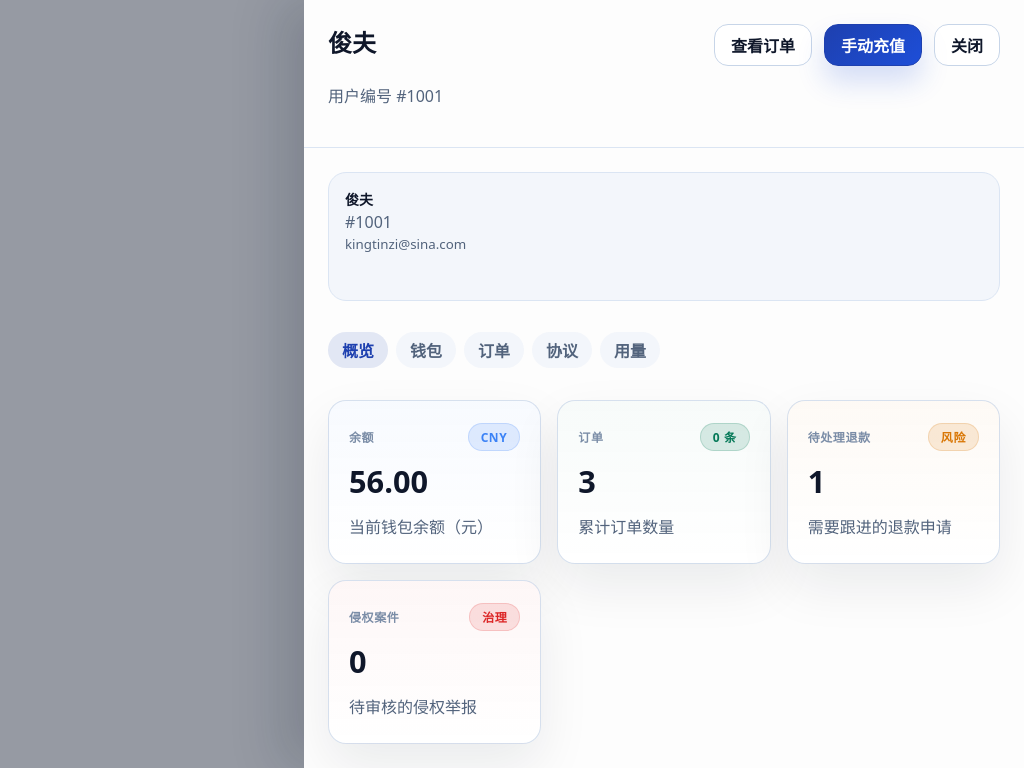
Test: UserDetailDrawer › switches between overview, wallet, orders, agreements, and usage tabs
The width and height of the screenshot is (1024, 768).
Expected: the text "56.00" is shown, [349, 460, 428, 502]
What coordinates should you click on to do the following:
click the tab "钱包"
I would click on:
 (426, 350)
Its box is [396, 332, 456, 368].
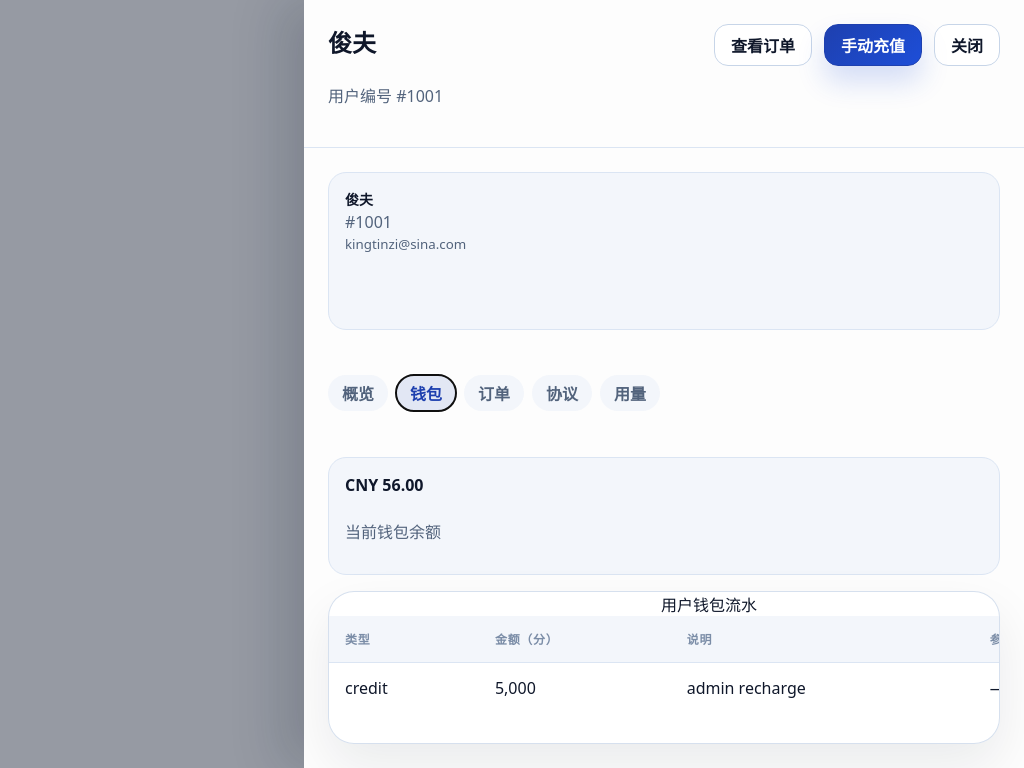
Now the text "admin recharge" is shown, box [671, 663, 974, 713]
What coordinates should you click on to do the following:
click the tab "订单"
I would click on:
 (494, 394)
Its box is [464, 376, 524, 412].
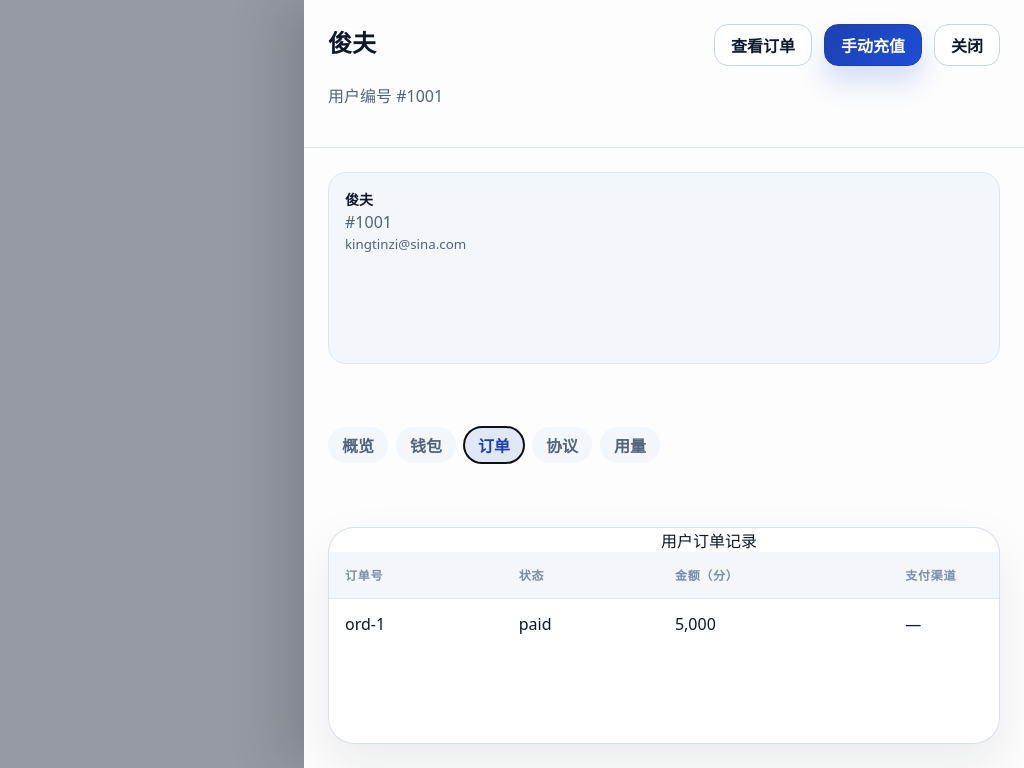
Now the text "ord-1" is shown, box [329, 598, 503, 649]
What coordinates should you click on to do the following:
click the tab "协议"
I would click on:
 (562, 446)
Its box is [532, 428, 592, 464].
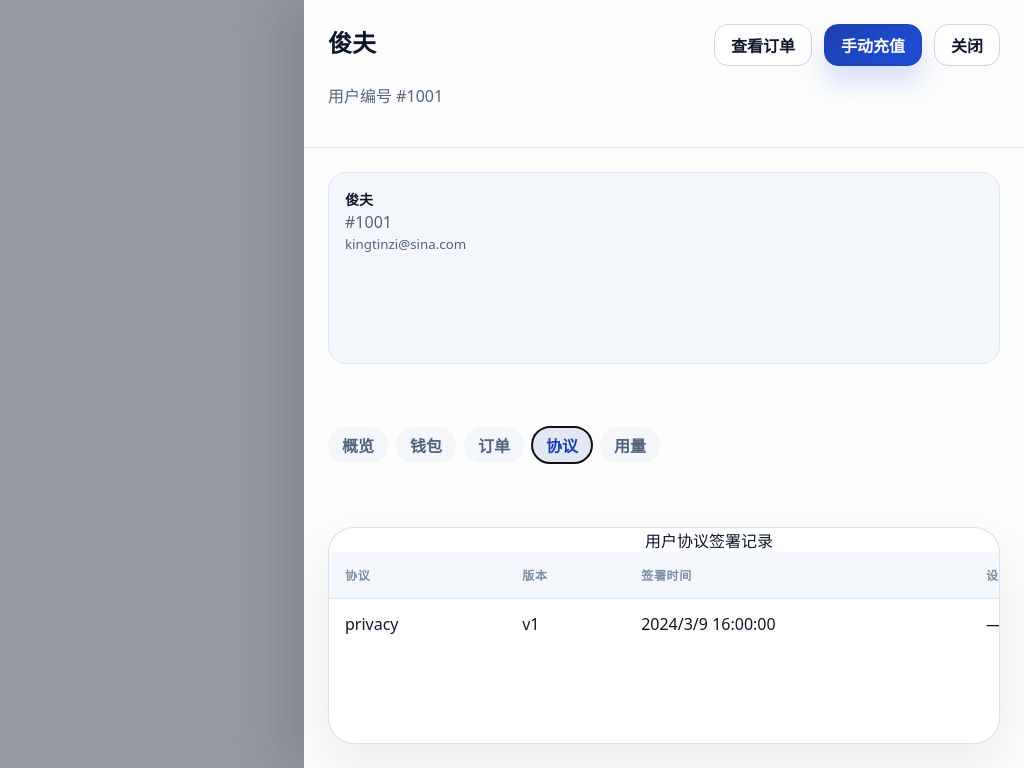
Now the text "privacy" is shown, box [329, 598, 506, 649]
What coordinates should you click on to do the following:
click the tab "用量"
I would click on:
 (630, 446)
Its box is [600, 428, 660, 464].
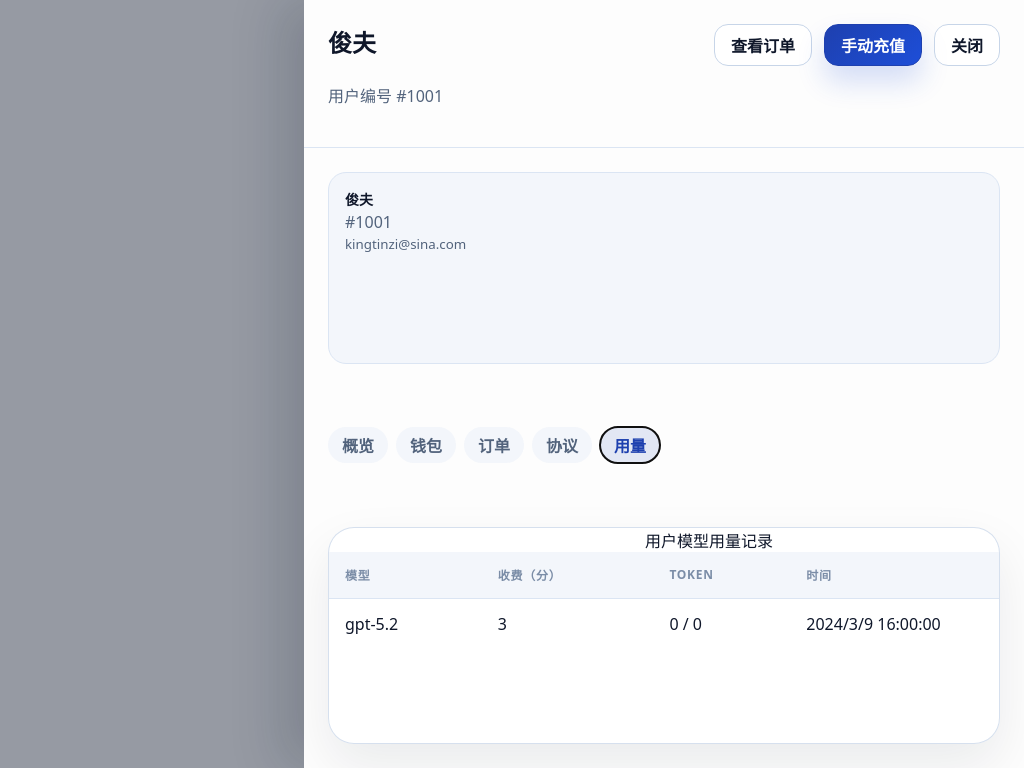
Now the text "gpt-5.2" is shown, box [329, 598, 482, 649]
